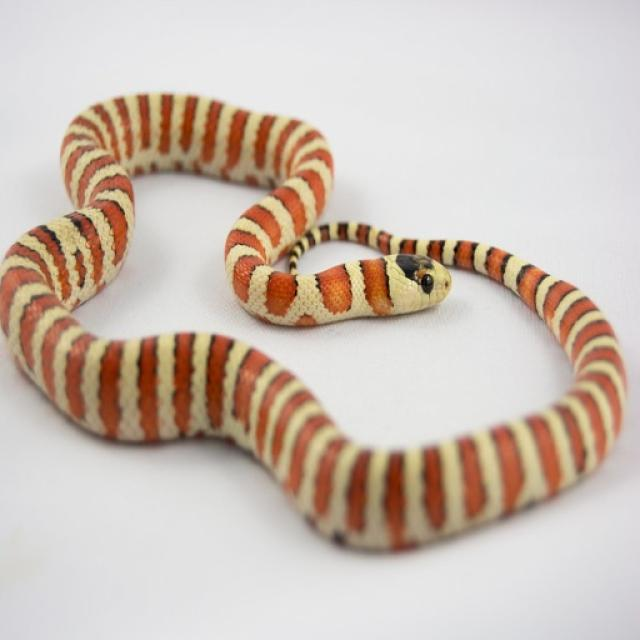snake: (0, 83, 640, 560)
